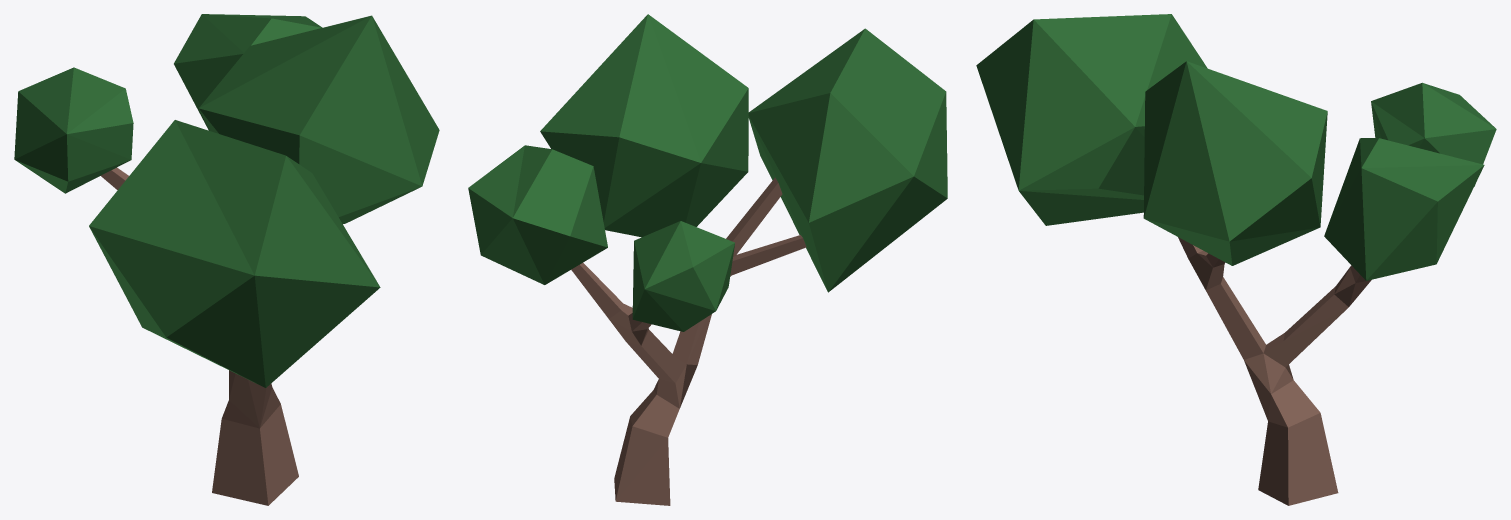
Rendered from medium_tree_2.fbx.
3 renders of one model, left to right at view 1: azimuth 30°, elevation 25°; view 2: azimuth 150°, elevation 25°; view 3: azimuth 270°, elevation 25°, orthographic. The views are drawn at different scales.
Visible parts, largest first — view 1: Icosphere.002, Icosphere.003, Icosphere, wood, Icosphere.001; view 2: Icosphere.002, Icosphere.003, Icosphere.001, wood, Icosphere; view 3: Icosphere.002, Icosphere.003, Icosphere.001, wood, Icosphere.
Boxes of the visible parts, x1=… form: Icosphere.002: x1=89, y1=120, x2=380, y2=387; Icosphere.003: x1=199, y1=15, x2=439, y2=223; Icosphere: x1=14, y1=67, x2=133, y2=193; wood: x1=101, y1=167, x2=298, y2=505; Icosphere.001: x1=174, y1=14, x2=322, y2=130; Icosphere.002: x1=748, y1=28, x2=947, y2=292; Icosphere.003: x1=540, y1=14, x2=748, y2=237; Icosphere.001: x1=468, y1=145, x2=607, y2=284; wood: x1=571, y1=177, x2=806, y2=505; Icosphere: x1=632, y1=221, x2=734, y2=331; Icosphere.002: x1=976, y1=14, x2=1207, y2=225; Icosphere.003: x1=1143, y1=61, x2=1327, y2=265; Icosphere.001: x1=1324, y1=138, x2=1484, y2=280; wood: x1=1178, y1=237, x2=1371, y2=505; Icosphere: x1=1371, y1=82, x2=1496, y2=186.
Size of the model in its own units: 341 by 267 by 331.
